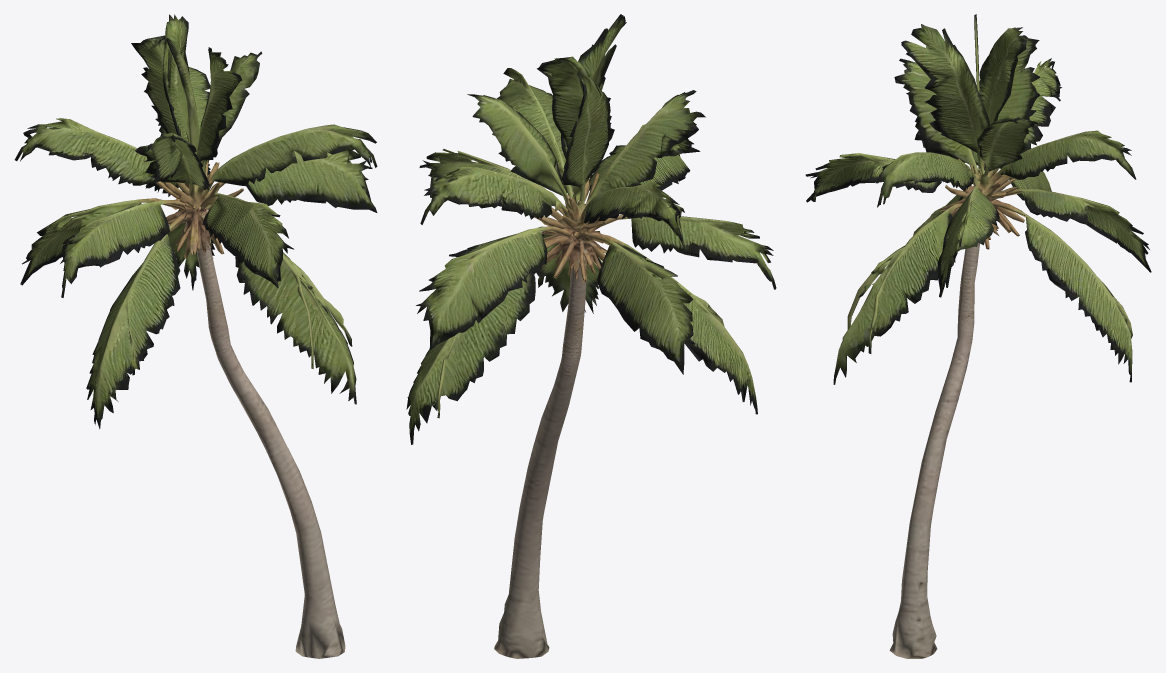
Rendered from palm.glb.
The picture shows the model from 3 angles, left to right: view 1: azimuth 30°, elevation 25°; view 2: azimuth 150°, elevation 25°; view 3: azimuth 270°, elevation 25°; orthographic projection. The views are drawn at different scales.
Parts seen in each view (by area): view 1: tripo_node_62885272-7c80-443a-ac84-576a9d8c1b5c; view 2: tripo_node_62885272-7c80-443a-ac84-576a9d8c1b5c; view 3: tripo_node_62885272-7c80-443a-ac84-576a9d8c1b5c.
Boxes of the visible parts, x1,y1,x2,y2 form: tripo_node_62885272-7c80-443a-ac84-576a9d8c1b5c: (14,14,377,658); tripo_node_62885272-7c80-443a-ac84-576a9d8c1b5c: (406,14,776,658); tripo_node_62885272-7c80-443a-ac84-576a9d8c1b5c: (805,14,1151,658).
Bounding box in the file's own units: 0.5459 × 0.9989 × 0.5401.
Materials: 1 (1 with a texture image).
